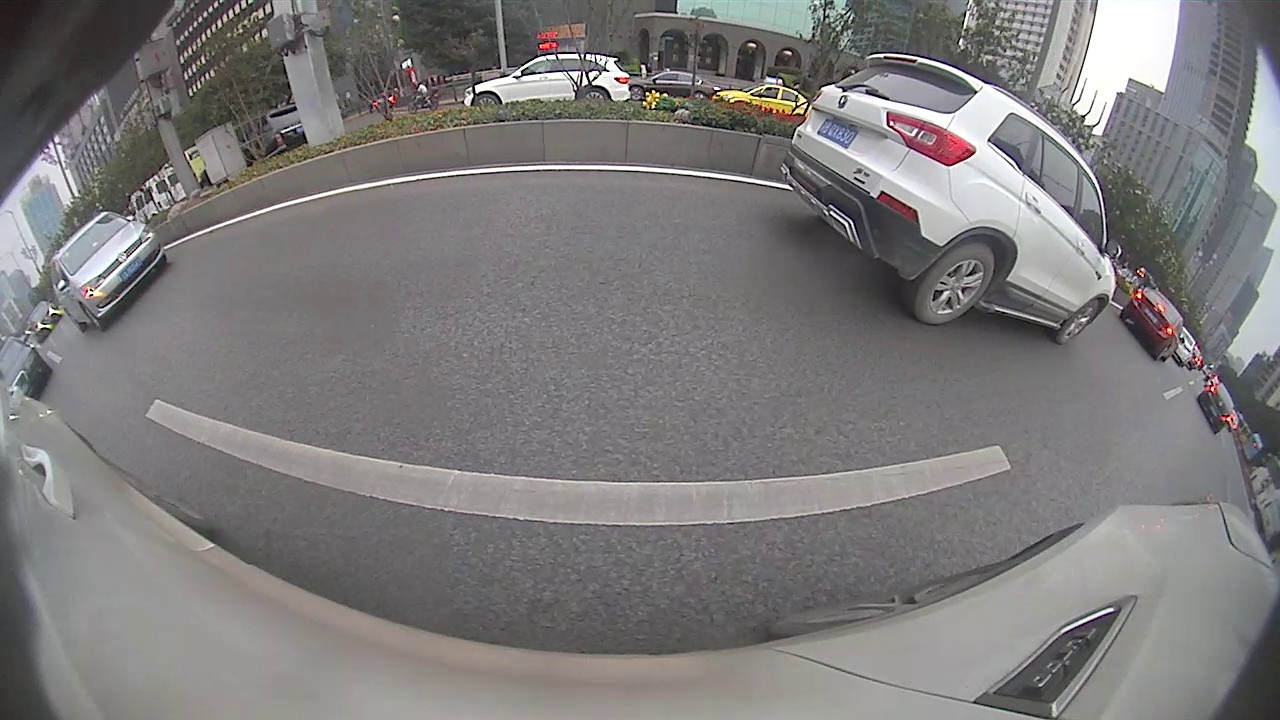bus: (648, 143, 688, 181)
car: (877, 161, 1061, 271), (380, 151, 532, 240), (1190, 314, 1277, 383), (766, 158, 853, 207), (1227, 347, 1279, 401), (838, 167, 898, 208), (1049, 210, 1089, 270), (750, 161, 789, 190), (715, 161, 750, 185)
front: (1207, 341, 1236, 375), (882, 196, 907, 224), (520, 187, 531, 208), (769, 181, 777, 193)
rear: (964, 218, 997, 257), (472, 192, 491, 227), (852, 190, 865, 205), (795, 184, 806, 199)
